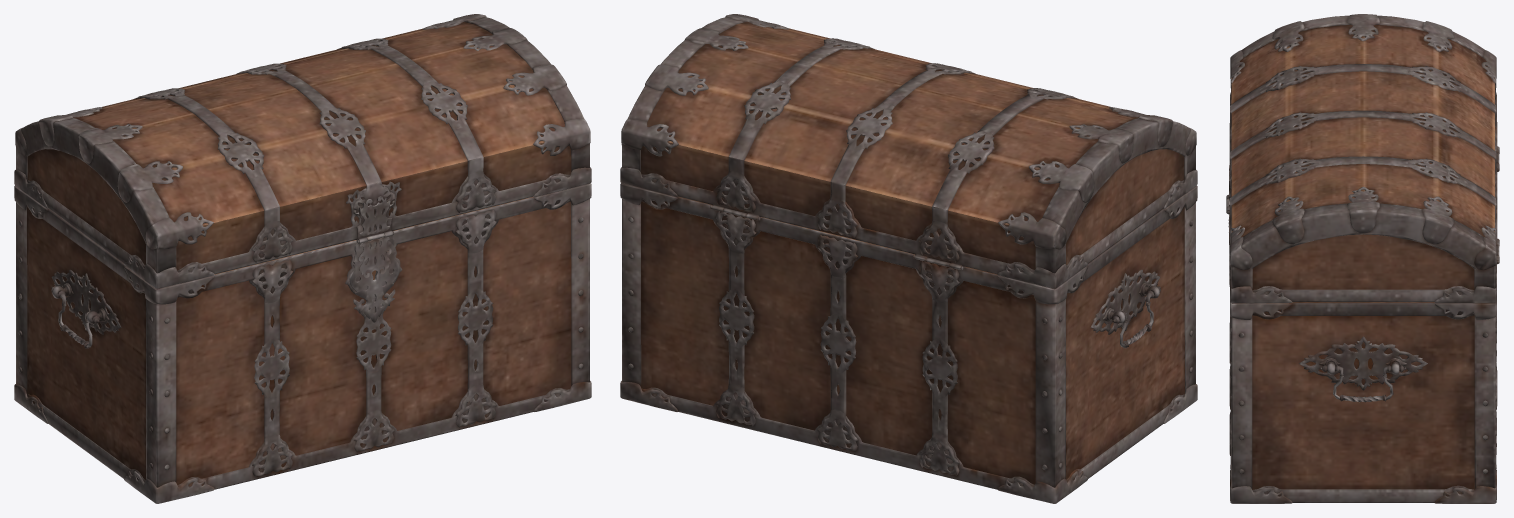
Rendered from chest.glb.
3 renders of one model, left to right at view 1: azimuth 30°, elevation 25°; view 2: azimuth 150°, elevation 25°; view 3: azimuth 270°, elevation 25°, orthographic. The views are drawn at different scales.
Parts seen in each view (by area): view 1: treasure_chest_bottom, treasure_chest_lid, treasure_chest_lock; view 2: treasure_chest_bottom, treasure_chest_lid; view 3: treasure_chest_lid, treasure_chest_bottom, treasure_chest_handle_right.
Part boxes in pixels (bbox=[...]): treasure_chest_bottom: bbox=[14, 183, 591, 503]; treasure_chest_lid: bbox=[14, 14, 591, 288]; treasure_chest_lock: bbox=[349, 233, 399, 322]; treasure_chest_bottom: bbox=[620, 183, 1197, 503]; treasure_chest_lid: bbox=[620, 14, 1197, 288]; treasure_chest_lid: bbox=[1226, 14, 1499, 303]; treasure_chest_bottom: bbox=[1229, 152, 1499, 503]; treasure_chest_handle_right: bbox=[1320, 365, 1406, 402].
Bounding box in the file's own units: 0.959 × 0.6189 × 0.5227.
Materials: 1 (1 with a texture image).
